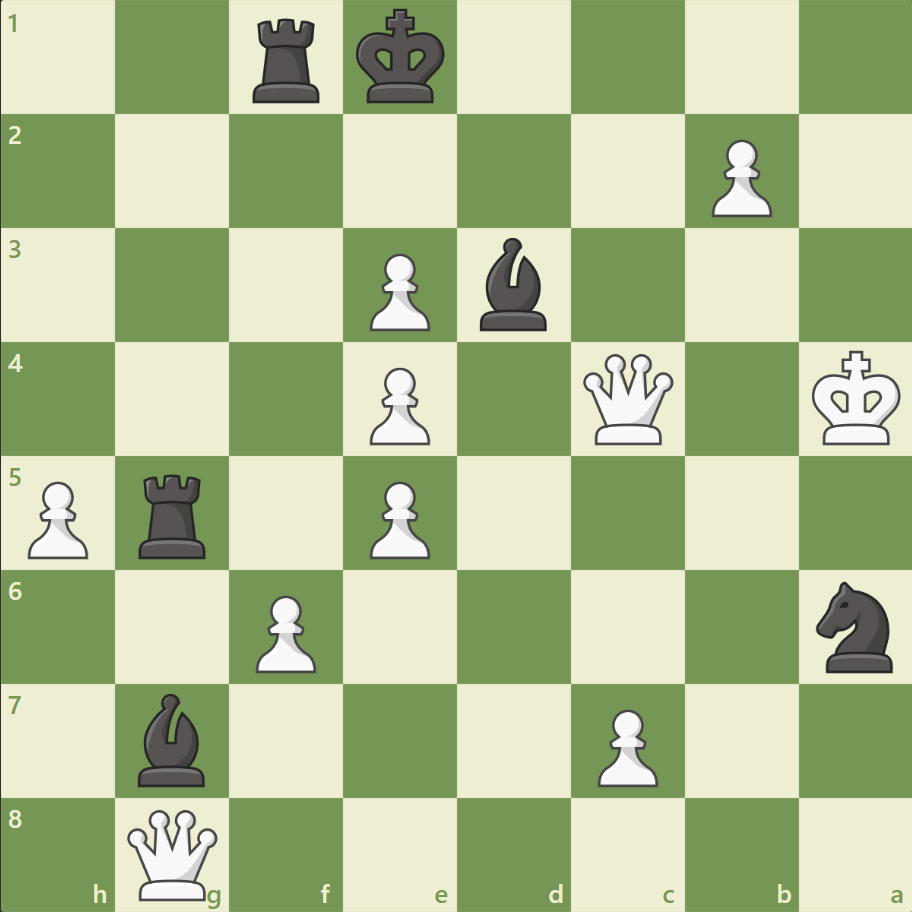K: (806, 344, 906, 452)
P: (247, 586, 322, 677), (20, 473, 95, 564), (701, 132, 776, 223), (588, 700, 662, 791), (361, 473, 435, 564), (361, 359, 435, 450), (361, 246, 435, 337)
Q: (578, 349, 677, 449), (124, 804, 223, 903)
b: (131, 687, 215, 790), (471, 233, 555, 336)
k: (351, 4, 451, 112)
n: (806, 575, 903, 677)
r: (246, 12, 329, 109), (133, 466, 215, 563)
